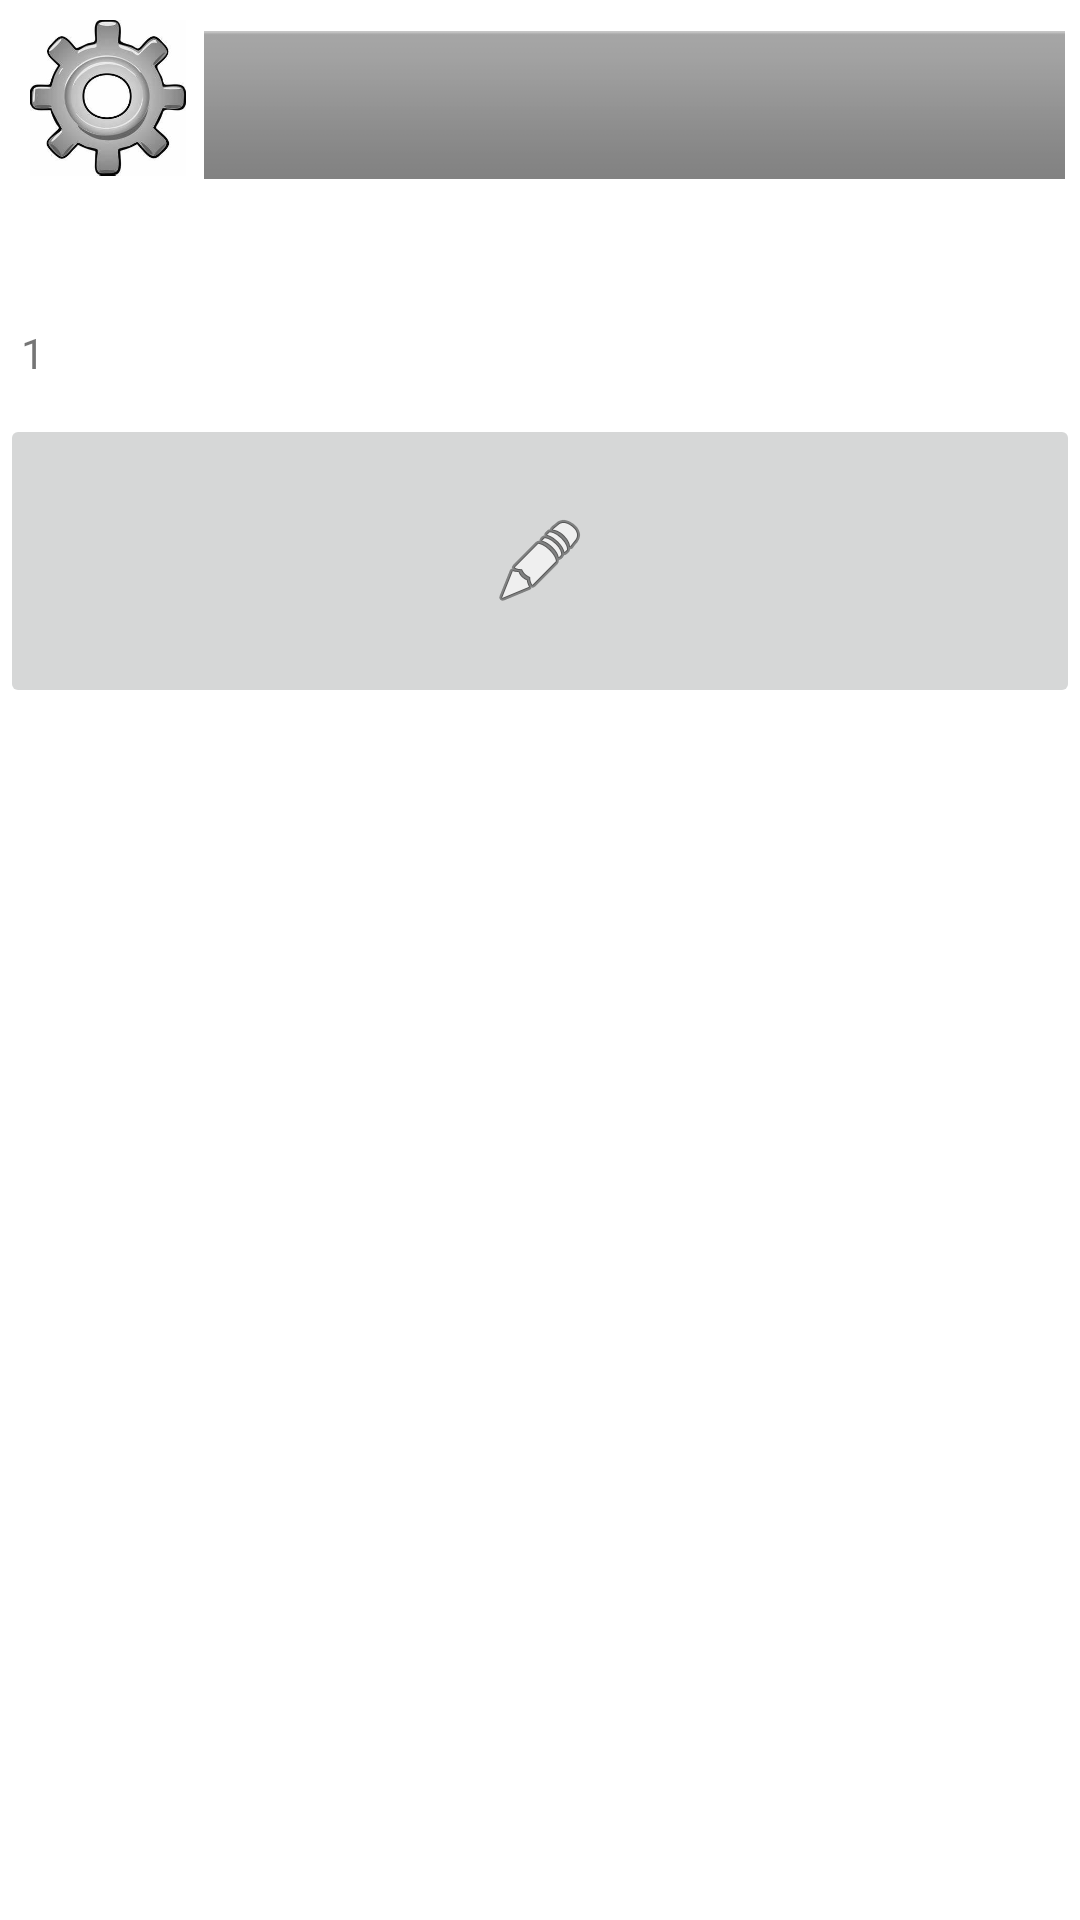

Named icons in this screenshot (1080w x 1920h) and their centers, point (x, y):
para: point (108, 98)
